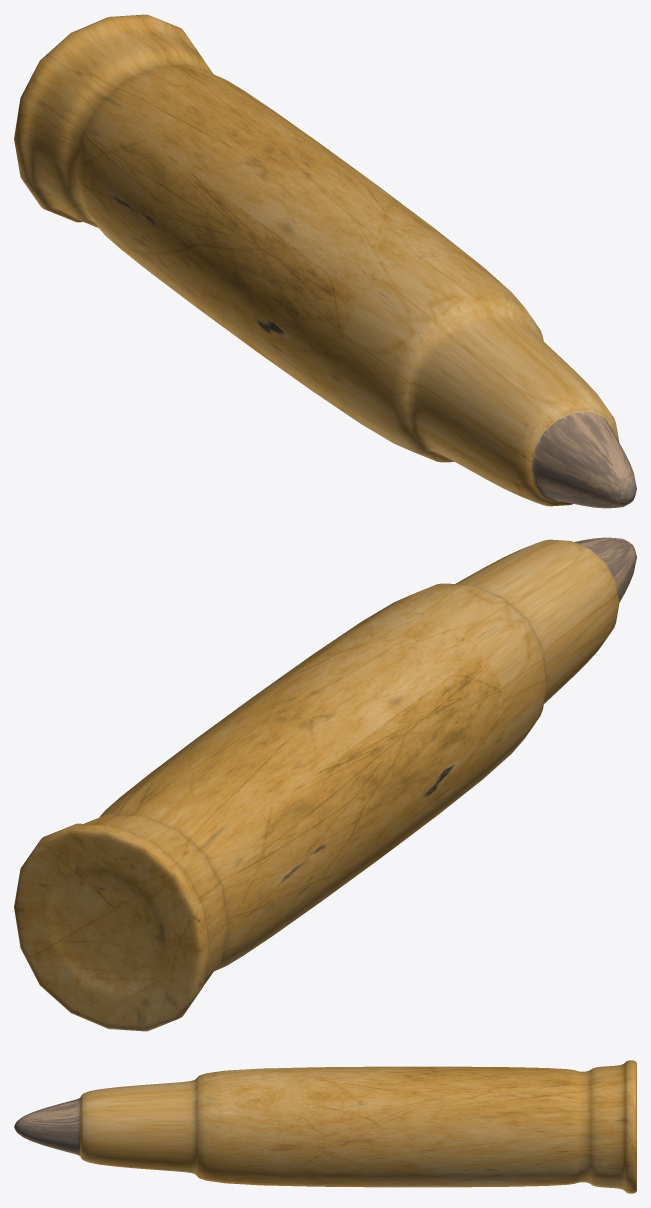
File: Bullet.fbx
3 renders of one model, top to bottom at view 1: azimuth 30°, elevation 25°; view 2: azimuth 150°, elevation 25°; view 3: azimuth 270°, elevation 25°, orthographic. The views are drawn at different scales.
Visible parts, largest first — view 1: bullet; view 2: bullet; view 3: bullet.
Boxes of the visible parts, <box> form: bullet: <box>14,14,636,508</box>; bullet: <box>14,537,636,1031</box>; bullet: <box>14,1060,636,1193</box>.
Size of the model in its own units: 1.19 by 1.19 by 5.63.
